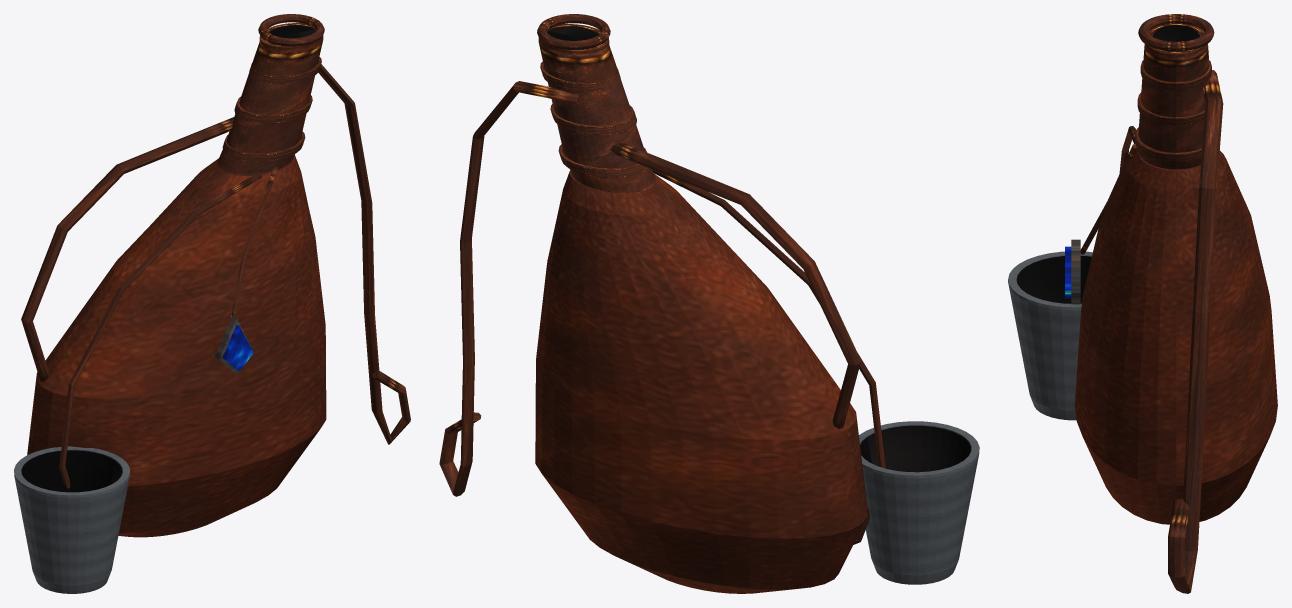
The model's file is waterskin.obj.
The picture shows the model from 3 angles, left to right: view 1: azimuth 30°, elevation 25°; view 2: azimuth 150°, elevation 25°; view 3: azimuth 270°, elevation 25°; orthographic projection. The views are drawn at different scales.
Visible parts, largest first — view 1: closed_leather_body, hollow_drinking_cup, slanted_leather_neck, shoulder_strap, left_carry_loop, cup_inner_lining, front_leather_seam, neck_binding_0, blue_pendant, neck_binding_1, pendant_cord, raised_neck_rim_half_1 (+3 smaller); view 2: closed_leather_body, hollow_drinking_cup, slanted_leather_neck, shoulder_strap, left_carry_loop, cup_inner_lining, front_leather_seam, neck_binding_1, neck_binding_0, raised_neck_rim_half_0, neck_binding_2, raised_neck_rim_half_1; view 3: closed_leather_body, shoulder_strap, hollow_drinking_cup, slanted_leather_neck, cup_inner_lining, raised_neck_rim_half_1, raised_neck_rim_half_0, neck_binding_2, neck_binding_0, neck_binding_1, pendant_setting, recessed_mouth (+2 smaller).
Boxes of the visible parts, <box> form: closed_leather_body: <box>27,155,326,537</box>; hollow_drinking_cup: <box>14,446,129,593</box>; slanted_leather_neck: <box>217,23,323,175</box>; shoulder_strap: <box>318,64,410,444</box>; left_carry_loop: <box>21,117,233,381</box>; cup_inner_lining: <box>21,450,122,492</box>; front_leather_seam: <box>59,172,261,488</box>; neck_binding_0: <box>222,131,305,161</box>; blue_pendant: <box>222,324,253,371</box>; neck_binding_1: <box>234,95,312,123</box>; pendant_cord: <box>231,166,277,317</box>; raised_neck_rim_half_1: <box>263,20,324,46</box>; closed_leather_body: <box>535,170,867,593</box>; hollow_drinking_cup: <box>859,421,979,584</box>; slanted_leather_neck: <box>538,24,655,193</box>; shoulder_strap: <box>439,81,579,496</box>; left_carry_loop: <box>610,143,860,428</box>; cup_inner_lining: <box>860,425,971,472</box>; front_leather_seam: <box>652,169,885,544</box>; neck_binding_1: <box>550,104,636,135</box>; neck_binding_0: <box>558,144,647,177</box>; raised_neck_rim_half_0: <box>537,21,605,49</box>; neck_binding_2: <box>540,61,620,91</box>; raised_neck_rim_half_1: <box>544,14,610,42</box>; closed_leather_body: <box>1074,148,1277,524</box>; shoulder_strap: <box>1168,70,1223,593</box>; hollow_drinking_cup: <box>1008,251,1092,420</box>; slanted_leather_neck: <box>1138,23,1209,169</box>; cup_inner_lining: <box>1016,256,1091,303</box>; raised_neck_rim_half_1: <box>1138,14,1176,51</box>; raised_neck_rim_half_0: <box>1176,14,1214,51</box>; neck_binding_2: <box>1140,60,1211,90</box>; neck_binding_0: <box>1135,127,1201,161</box>; neck_binding_1: <box>1137,92,1204,125</box>; pendant_setting: <box>1071,239,1080,304</box>; recessed_mouth: <box>1152,25,1199,41</box>.
Size of the model in its own units: 86 by 87.37 by 40.45.
6 materials, 6 textured.
